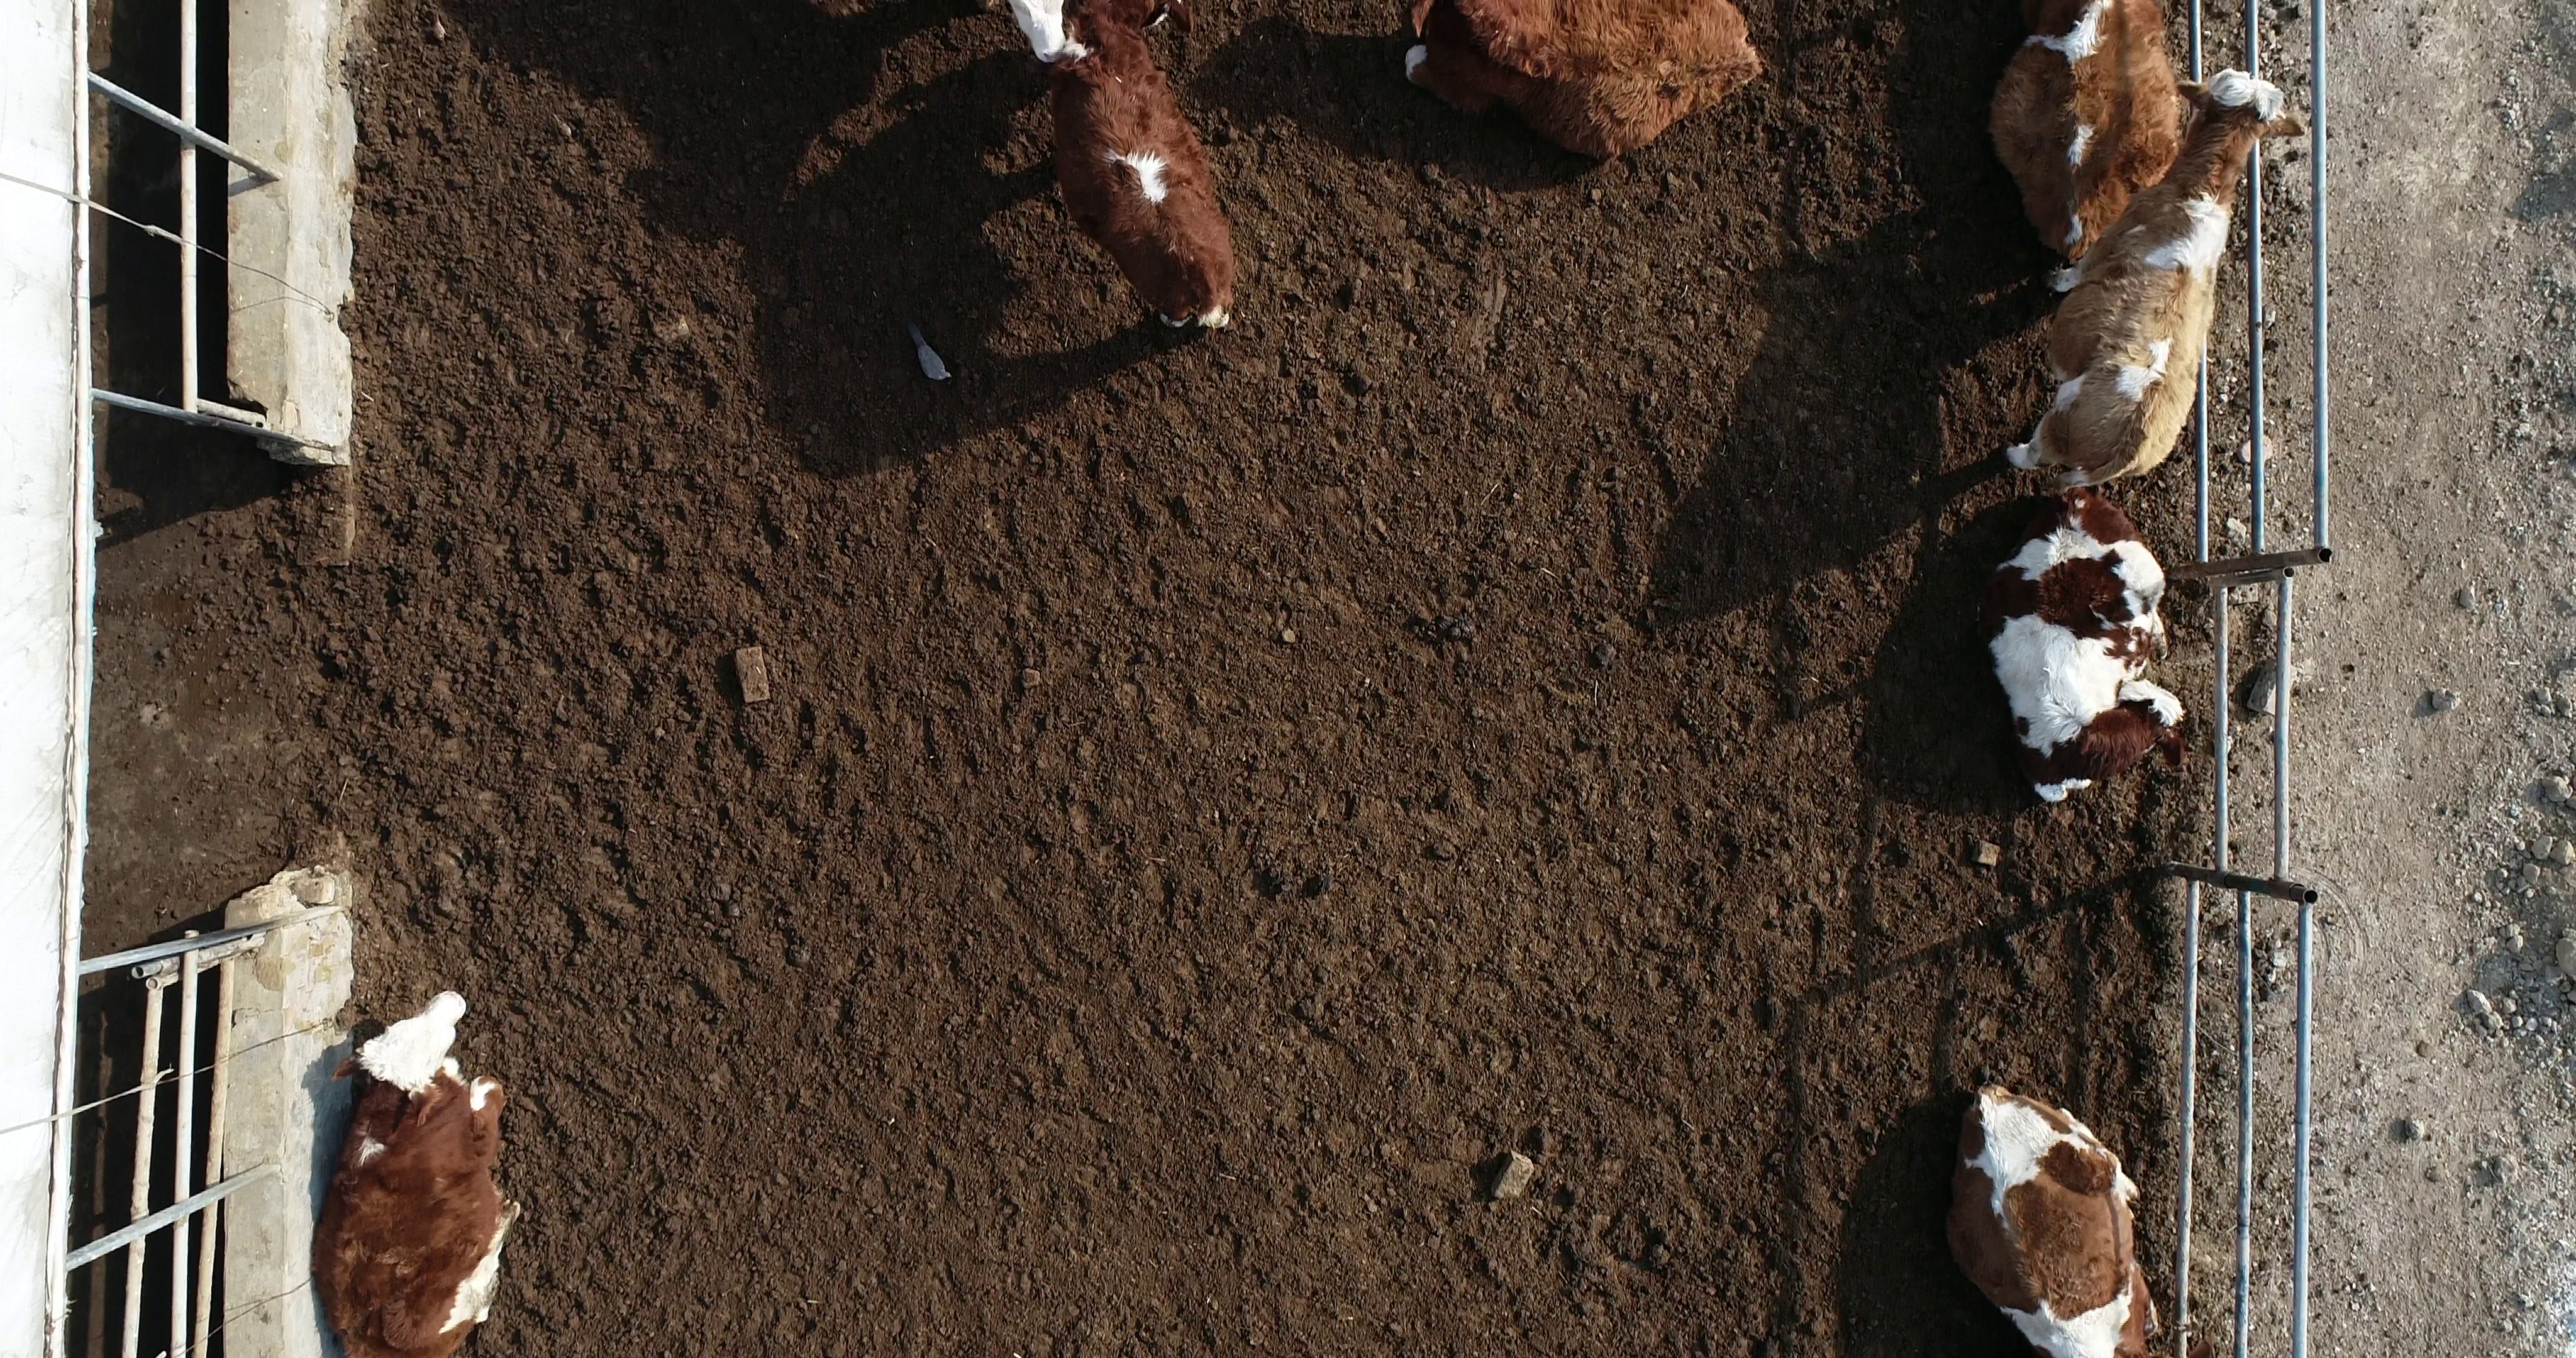cattle: (1992, 65, 2310, 503), (1969, 484, 2196, 809)
